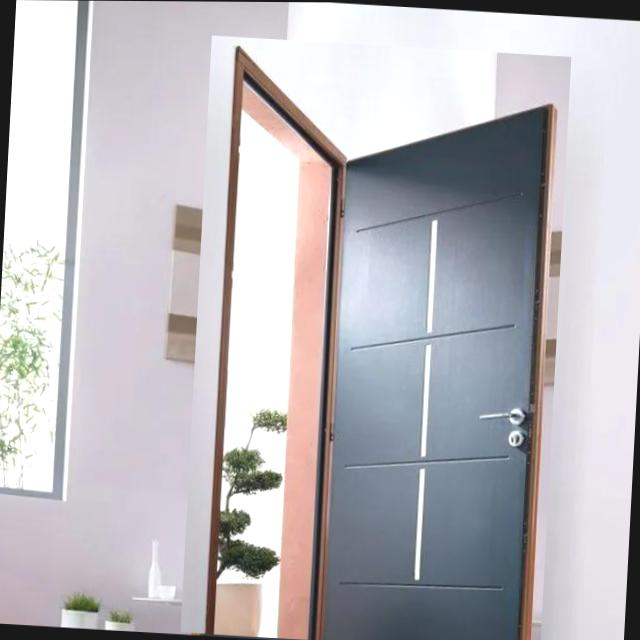open: (180, 35, 574, 639)
